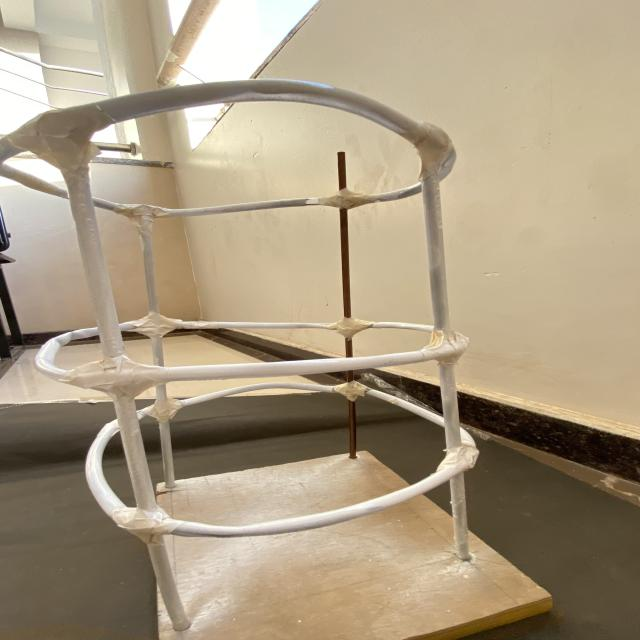silo: (0, 82, 561, 640)
